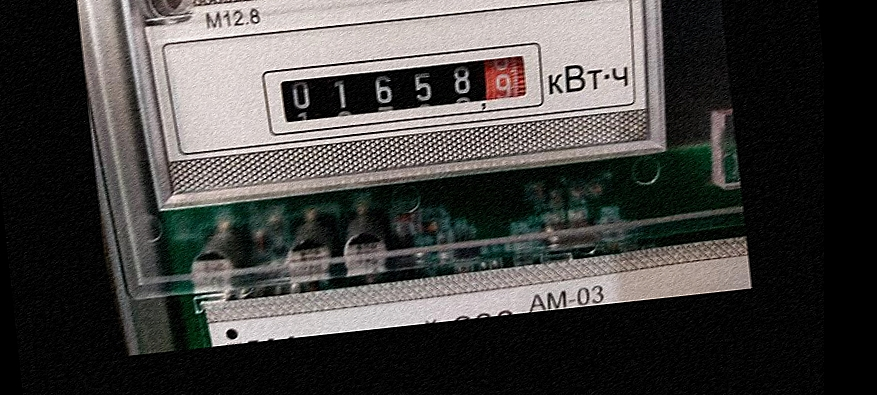0: (287, 77, 312, 111)
1: (332, 77, 348, 109)
5: (411, 69, 434, 103)
6: (371, 72, 395, 105)
8: (450, 63, 472, 97)
9: (491, 71, 512, 98)
screen: (253, 32, 550, 142)
